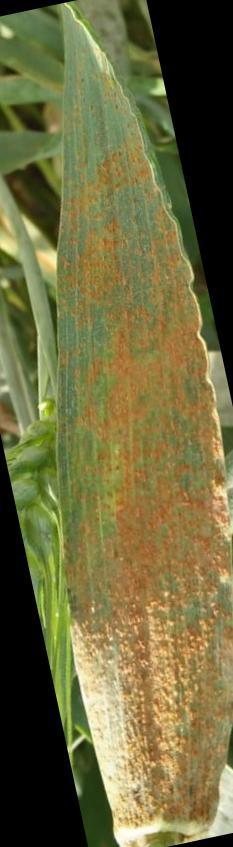Wheat: (78, 378, 208, 613), (66, 253, 181, 372), (87, 620, 217, 709), (110, 723, 217, 813), (75, 153, 140, 256)
